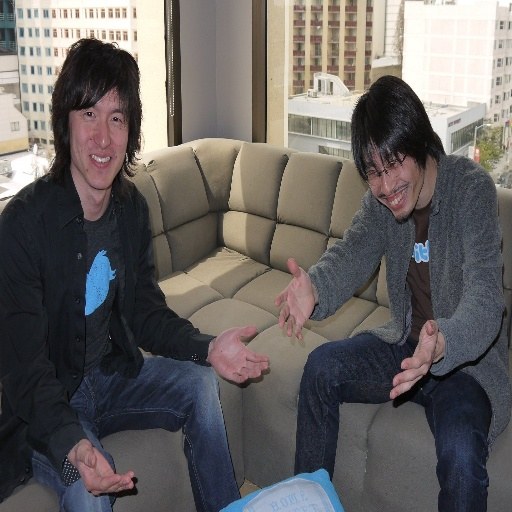hand: (385, 319, 444, 410), (71, 436, 135, 498), (209, 324, 270, 385), (273, 257, 314, 342)
